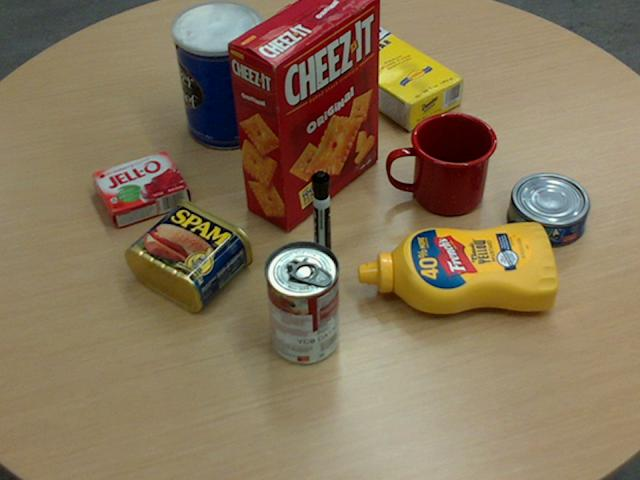cracker_box: (226, 0, 380, 230)
gelatin_box: (91, 149, 188, 226)
large_marker: (310, 171, 332, 266)
master_chef_can: (171, 0, 268, 149)
mug: (387, 111, 496, 215)
mustard_bottle: (357, 221, 557, 313)
potted_meat_can: (124, 197, 253, 311)
sugar_box: (318, 19, 463, 130)
tomato_soup_can: (262, 240, 338, 363)
tuna_fish_can: (506, 172, 588, 245)
